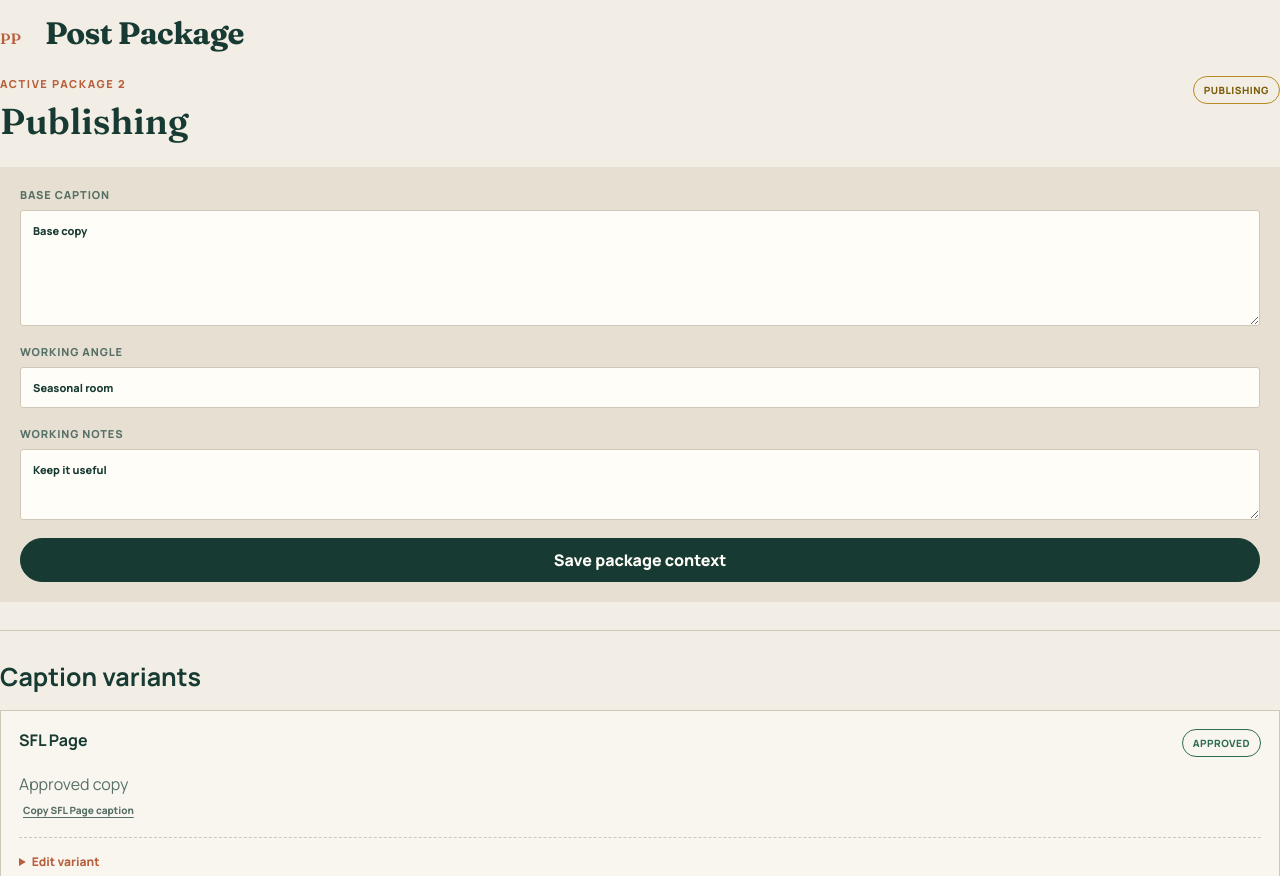
PostPackageWorkspace › copies approved copy, links planned publication recording, and renders complete prior packages read-only
Expected: the text box labelled "Base caption" holds "Base copy", [20,210,1260,326]
Step 1. Click the button "Copy SFL Page caption" → (78, 810), box [19,799,138,821]
(page scrolled)
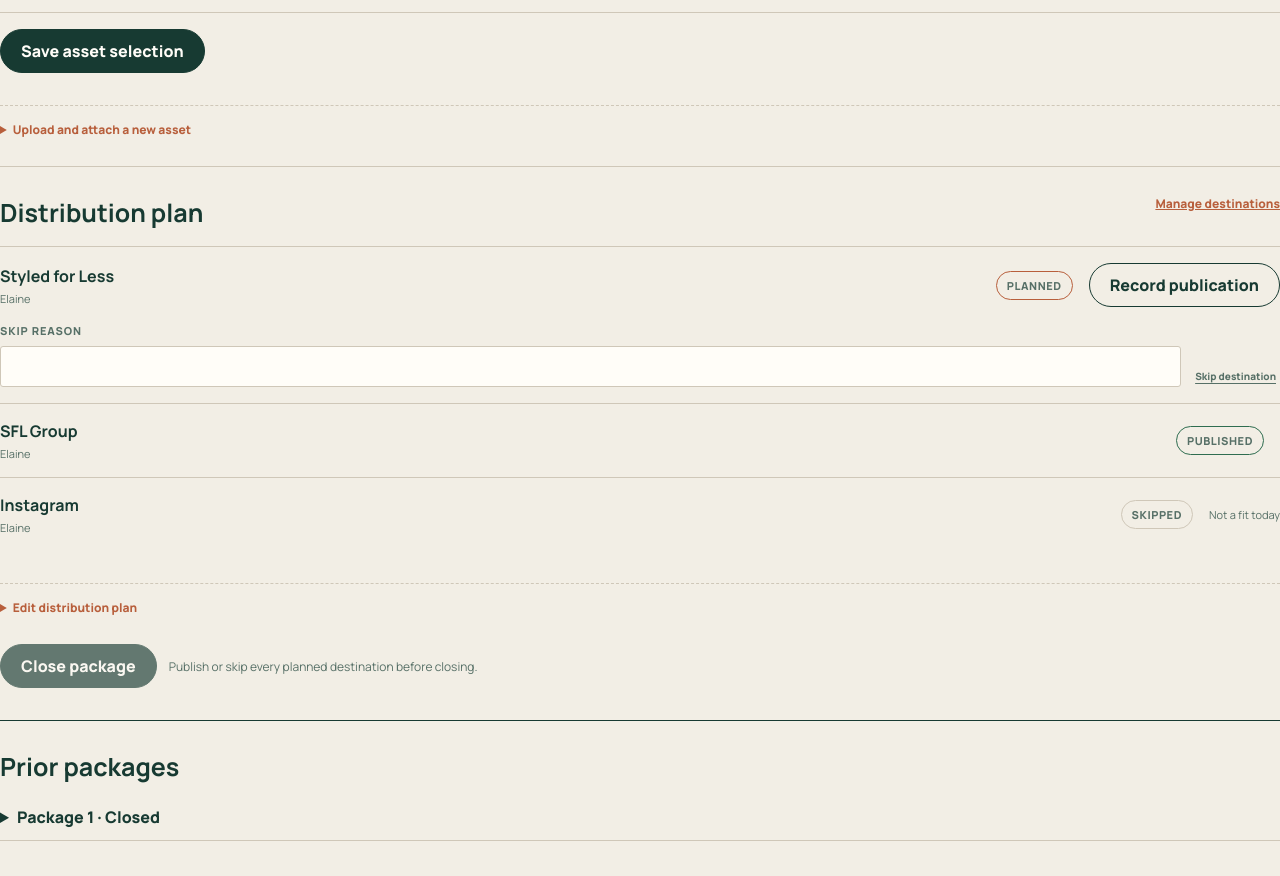
Step 2. Click the heading "Package 1 · Closed" → (88, 817), box [17,806,160,828]
(page scrolled)
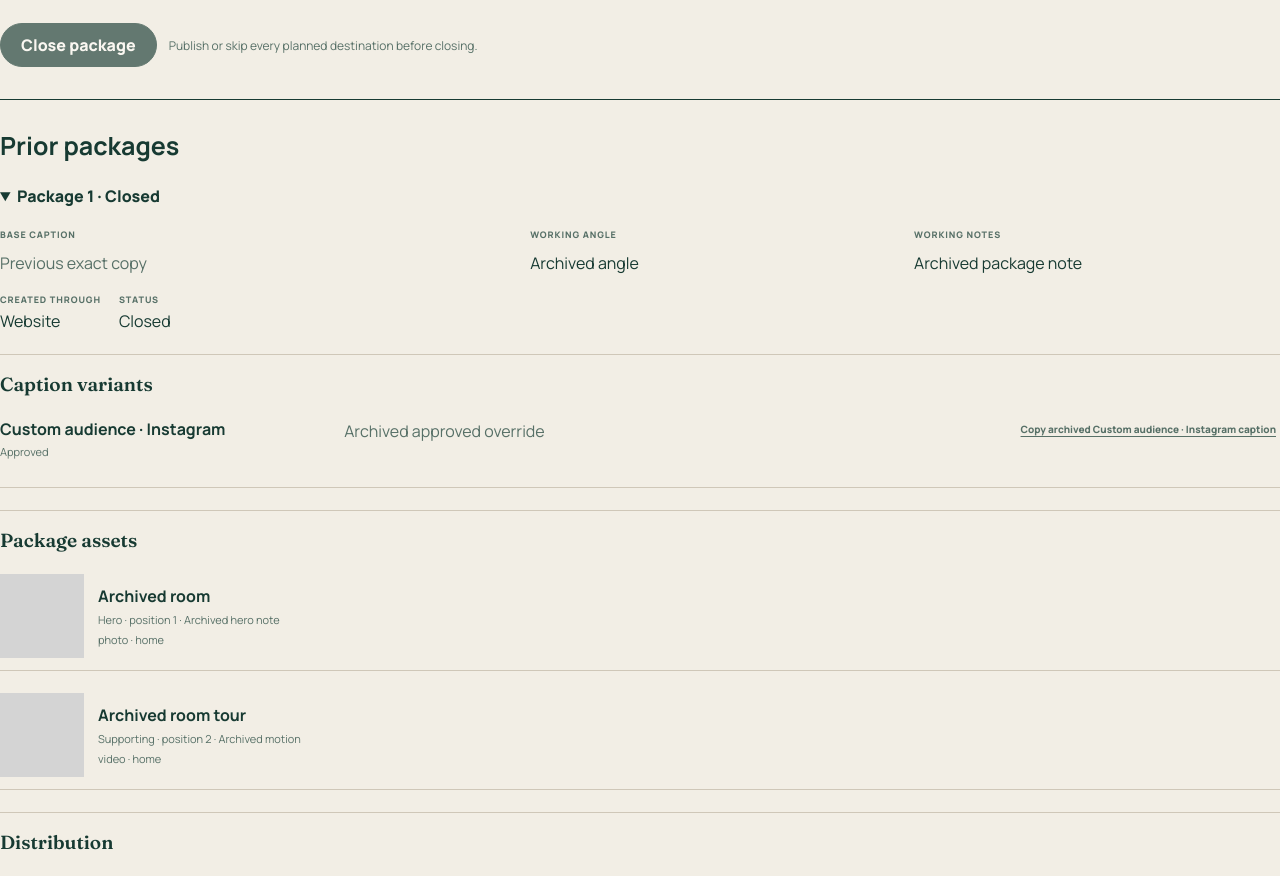
Expected: the text "Archived angle" is shown, [530,252,639,274]
Expected: the text "Archived package note" is shown, [914,252,1082,274]
Expected: the text "Archived approved override" is shown, [344,420,545,442]
